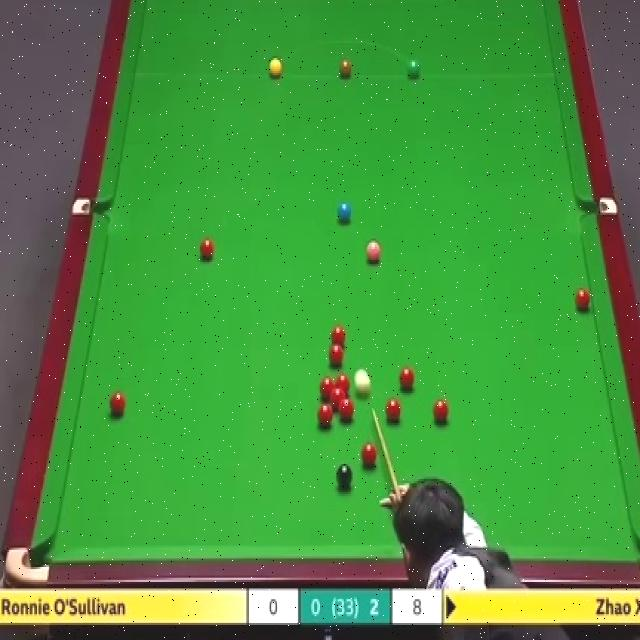black-ball: (336, 461, 354, 491)
blue-ball: (336, 201, 352, 225)
brown-ball: (339, 57, 352, 79)
green-ball: (406, 58, 420, 80)
pink-ball: (363, 241, 384, 270)
red-ball: (574, 286, 593, 317), (360, 440, 380, 469), (398, 366, 416, 392), (108, 391, 126, 416), (432, 400, 450, 425), (198, 238, 216, 262), (384, 399, 401, 424), (330, 323, 345, 349), (328, 344, 344, 368), (334, 373, 352, 394), (317, 404, 333, 427), (338, 400, 354, 423), (319, 380, 335, 401), (330, 388, 345, 408)
white-ball: (351, 368, 370, 394)
yellow-ball: (269, 59, 282, 80)
